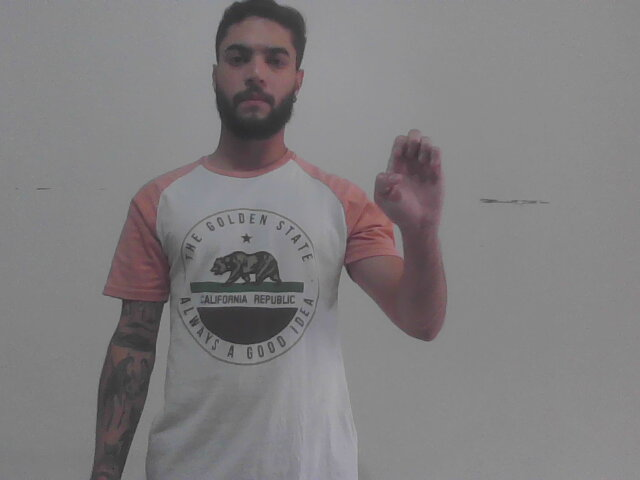e: (367, 126, 454, 233)
